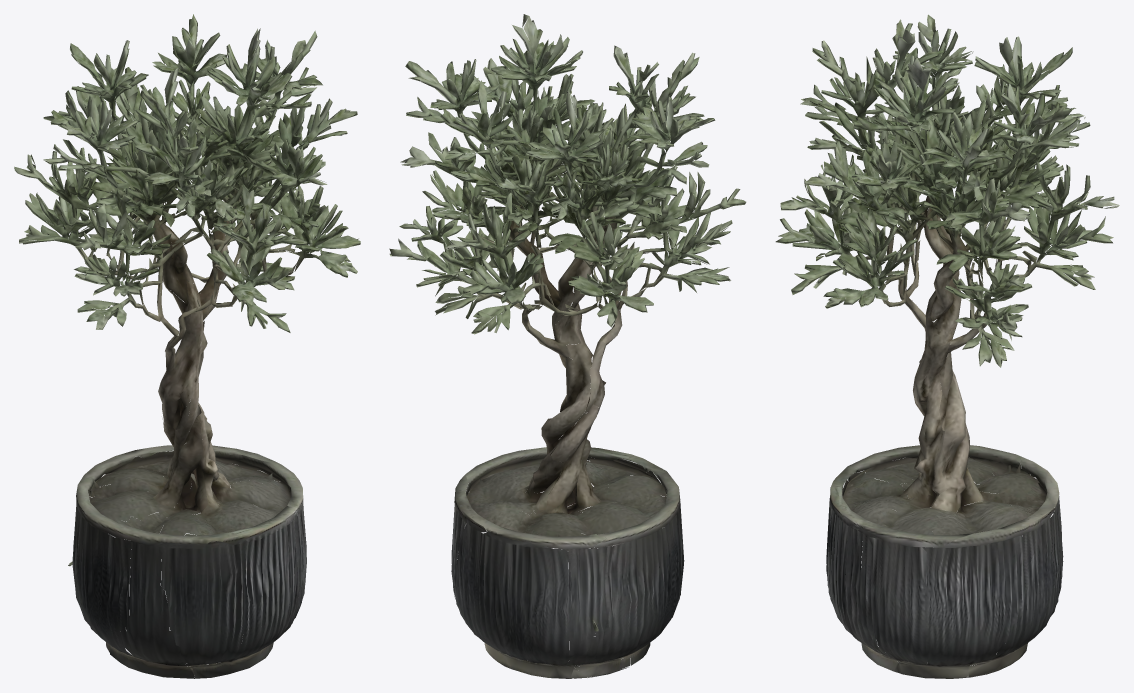
File: sculptural-plant.glb
The picture shows the model from 3 angles, left to right: view 1: azimuth 30°, elevation 25°; view 2: azimuth 150°, elevation 25°; view 3: azimuth 270°, elevation 25°; orthographic projection.
Parts seen in each view (by area): view 1: tripo_node_b22d078a-8e46-455e-a241-41c0e72f9a0f; view 2: tripo_node_b22d078a-8e46-455e-a241-41c0e72f9a0f; view 3: tripo_node_b22d078a-8e46-455e-a241-41c0e72f9a0f.
Part boxes in pixels (box(x1,y1,x2,y2)): tripo_node_b22d078a-8e46-455e-a241-41c0e72f9a0f: box(14, 14, 360, 678); tripo_node_b22d078a-8e46-455e-a241-41c0e72f9a0f: box(389, 14, 746, 678); tripo_node_b22d078a-8e46-455e-a241-41c0e72f9a0f: box(775, 14, 1119, 678).
Size of the model in its own units: 0.9038 by 1.8 by 0.9154.
1 material, 1 textured.
